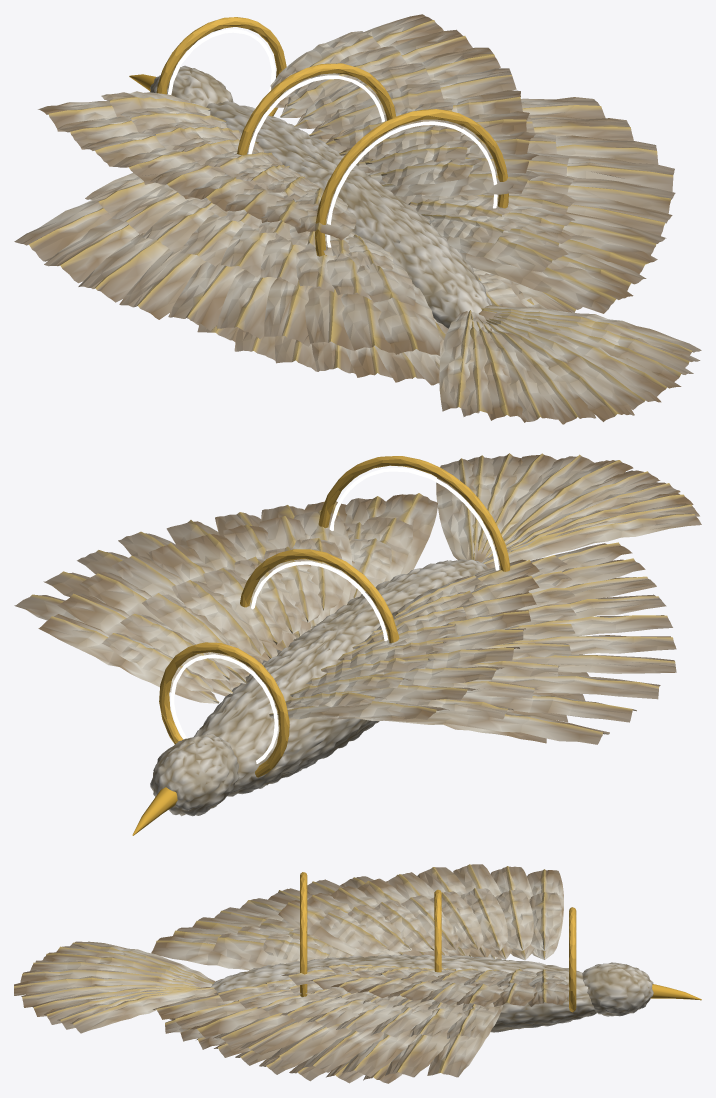
Rendered from seraphine_huge.glb.
The picture shows the model from 3 angles, top to bottom: view 1: azimuth 30°, elevation 25°; view 2: azimuth 150°, elevation 25°; view 3: azimuth 270°, elevation 25°; orthographic projection. The views are drawn at different scales.
Visible parts, largest first — view 1: seraphine_huge.001; view 2: seraphine_huge.001; view 3: seraphine_huge.001.
Part boxes in pixels (x1,y1,x2,y2): seraphine_huge.001: [14, 14, 701, 424]; seraphine_huge.001: [14, 453, 701, 835]; seraphine_huge.001: [14, 864, 701, 1083].
Bounding box in the file's own units: 6.93 × 2.43 × 10.
